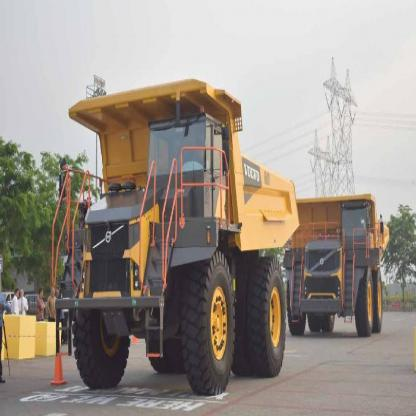dump_truck: (58, 80, 290, 391), (294, 189, 386, 340)
